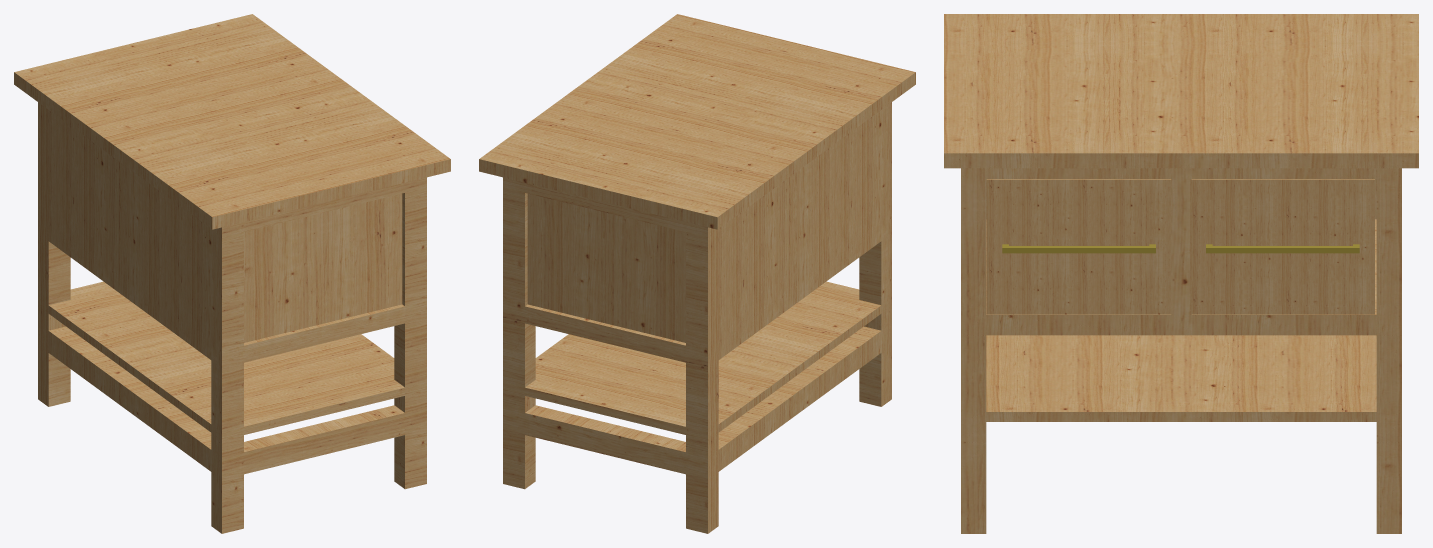
Rendered from Nightstand.fbx.
3 renders of one model, left to right at view 1: azimuth 30°, elevation 25°; view 2: azimuth 150°, elevation 25°; view 3: azimuth 270°, elevation 25°, orthographic. The views are drawn at different scales.
Visible parts, largest first — view 1: Nightstand; view 2: Nightstand; view 3: Nightstand, NightstandDrawer01, NightstandDrawer02.
Part boxes in pixels (x1,y1,x2,y2): Nightstand: (14,14,450,533); Nightstand: (479,14,915,533); Nightstand: (944,14,1418,533); NightstandDrawer01: (986,179,1171,314); NightstandDrawer02: (1190,179,1374,314).
Size of the model in its own units: 2.36 by 3.09 by 3.4.
2 materials, 1 textured.
